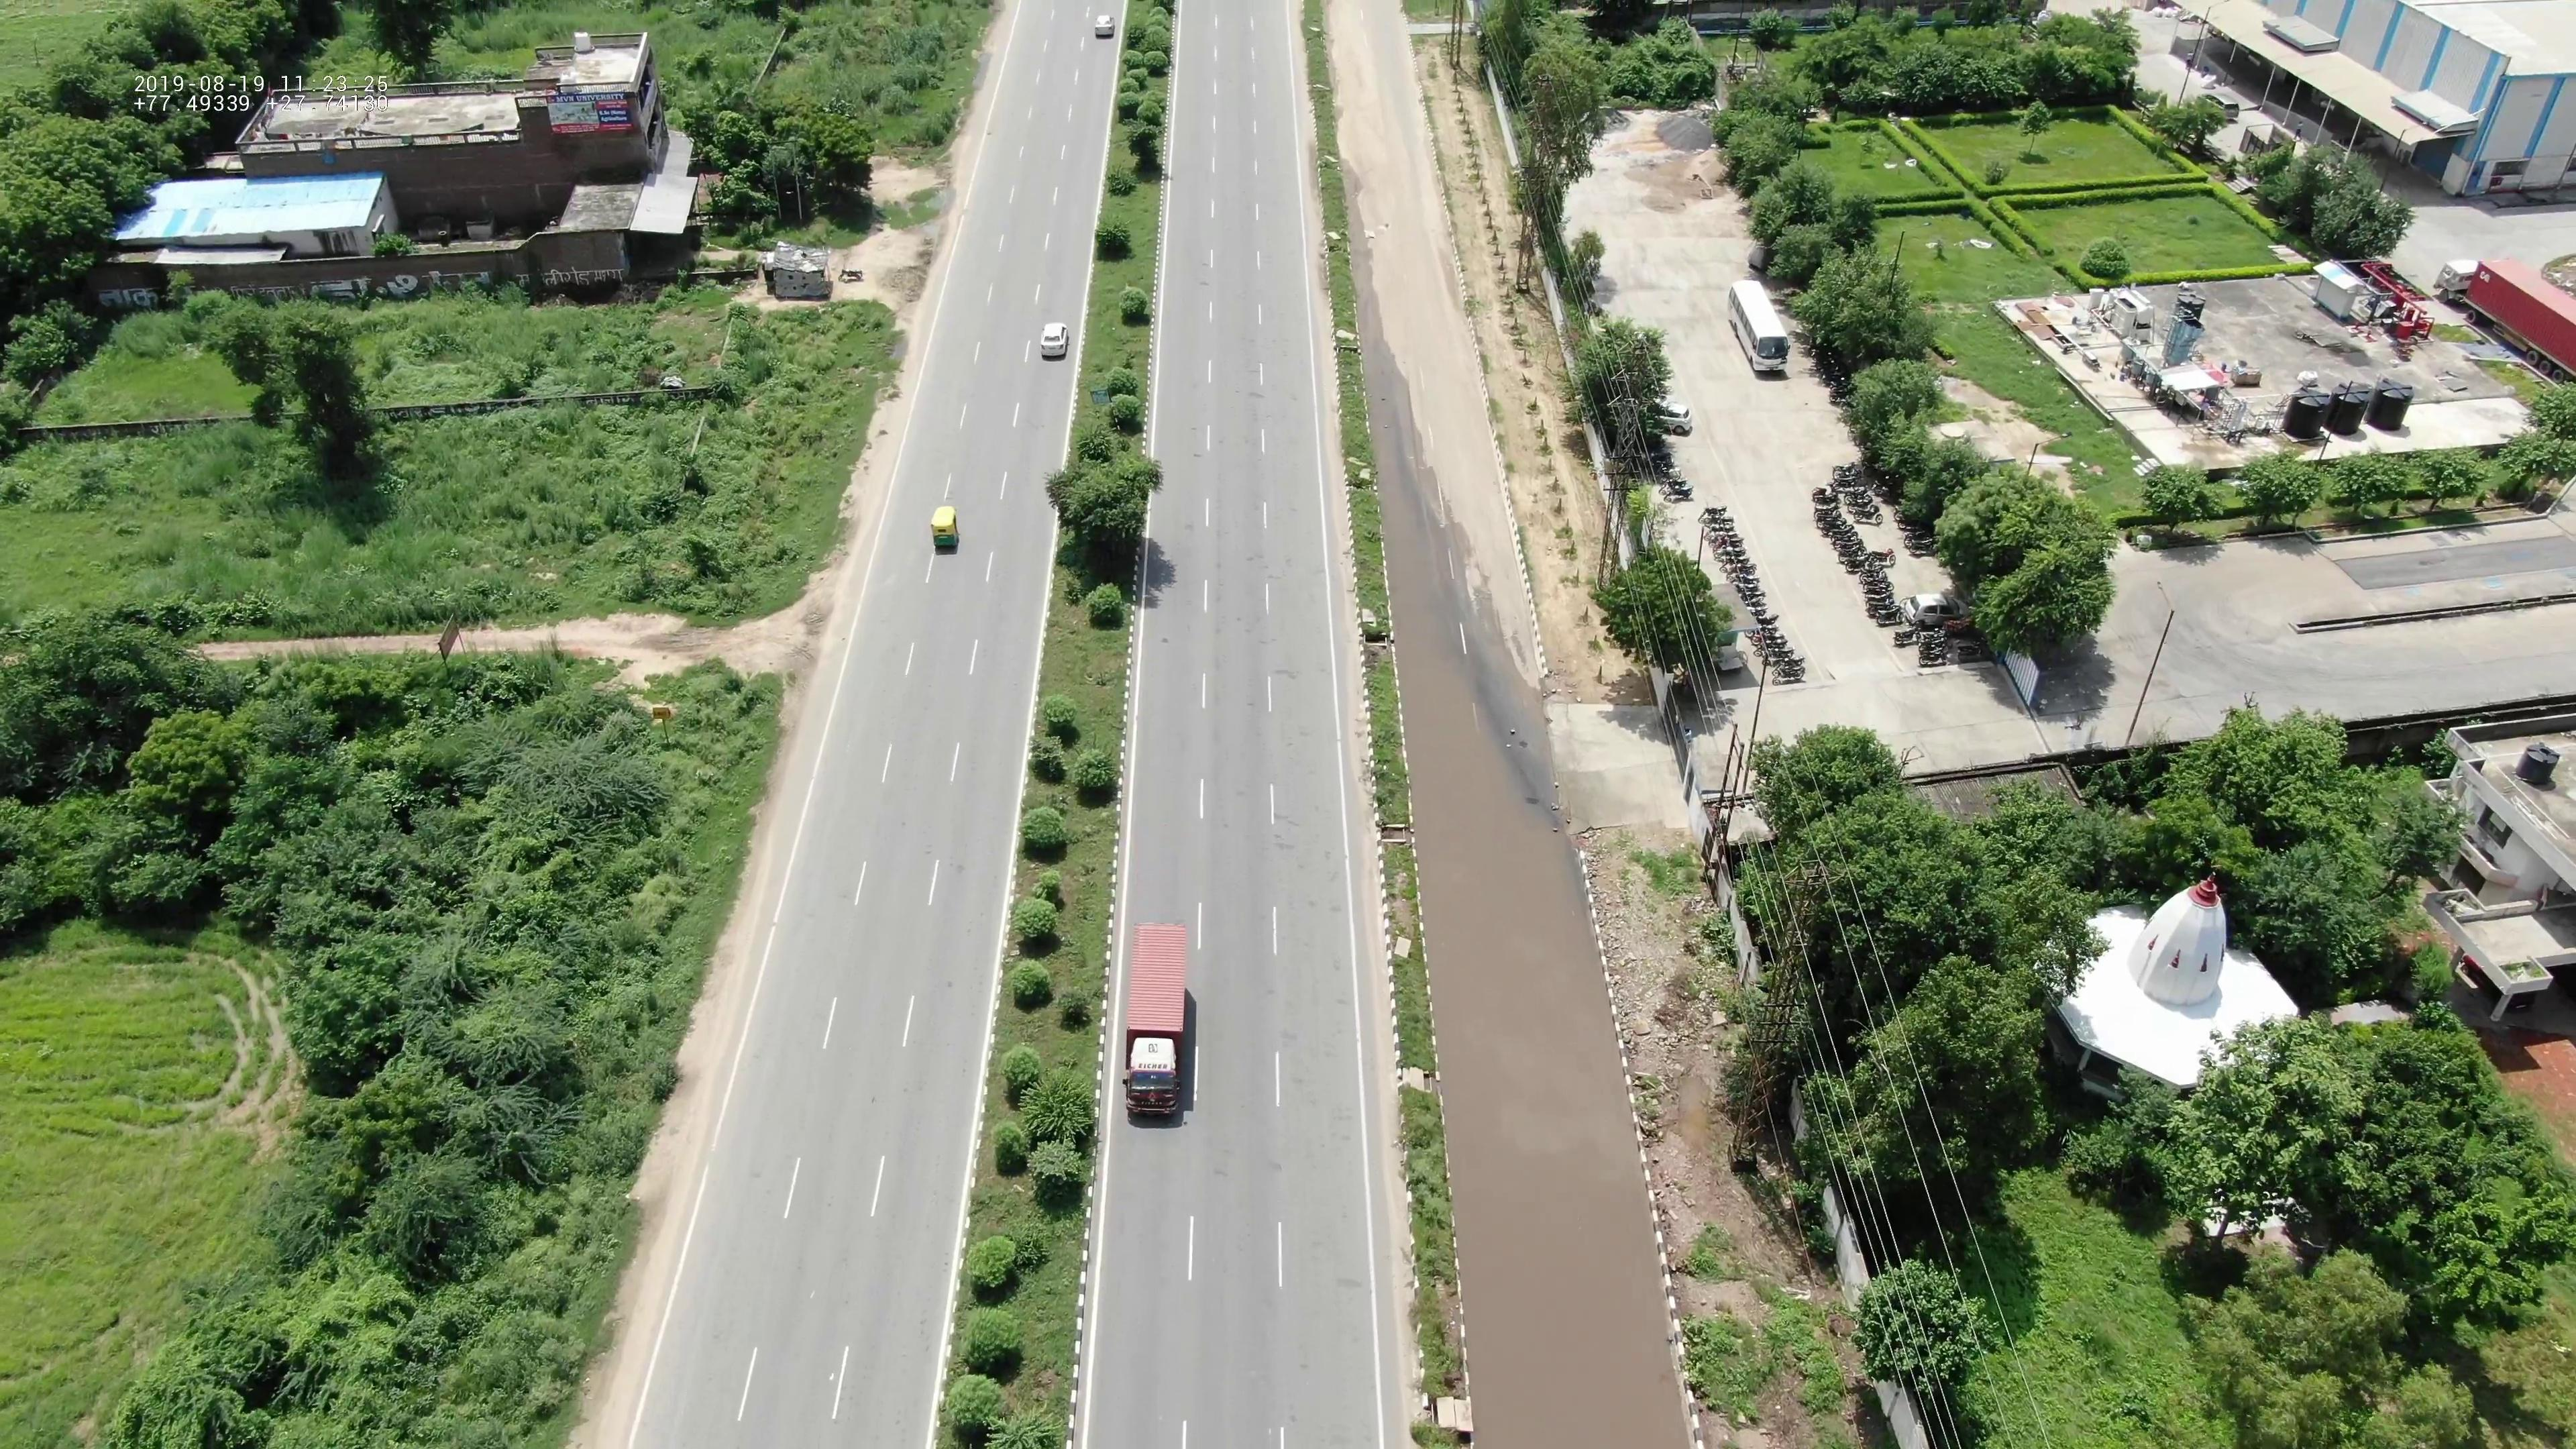Waterlogging: (1396, 449, 1628, 1223)
